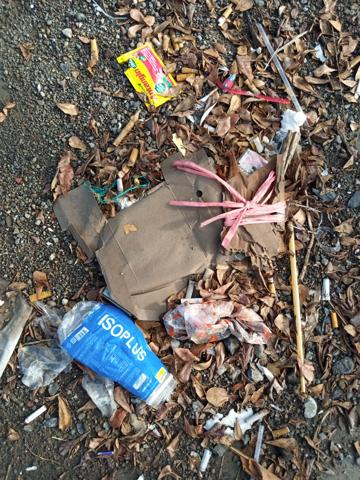botol_kaca: (53, 294, 187, 415)
